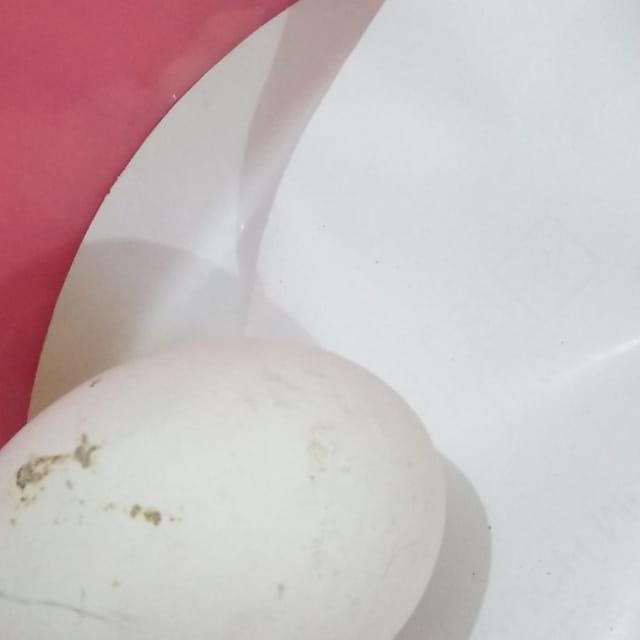egg: (0, 353, 474, 640)
